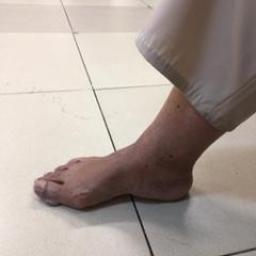Medial View -Right Foot-: (13, 114, 216, 222)
